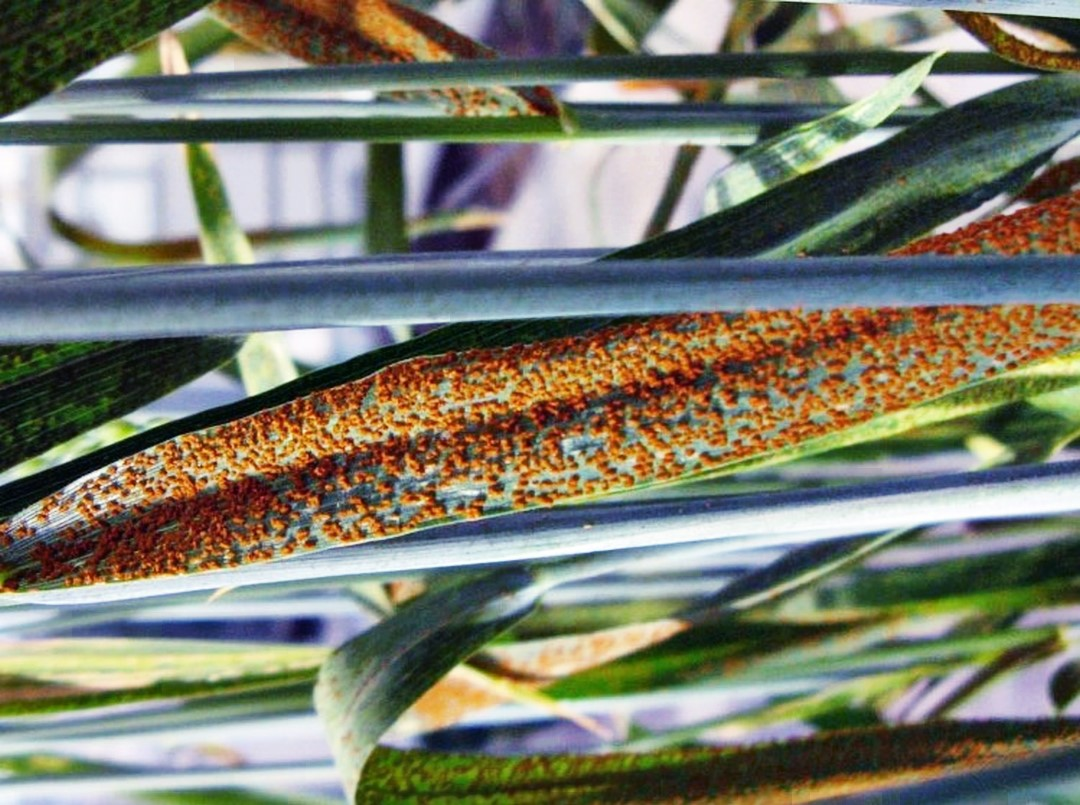Leaf Rust: (150, 257, 880, 572)
